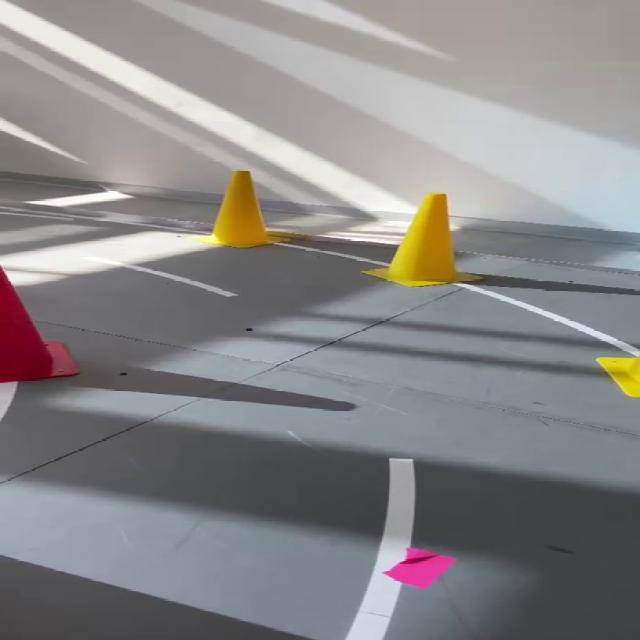Cone-red: (0, 266, 79, 419)
Cones-yellow: (367, 193, 465, 286), (210, 170, 274, 247), (597, 356, 639, 398)
